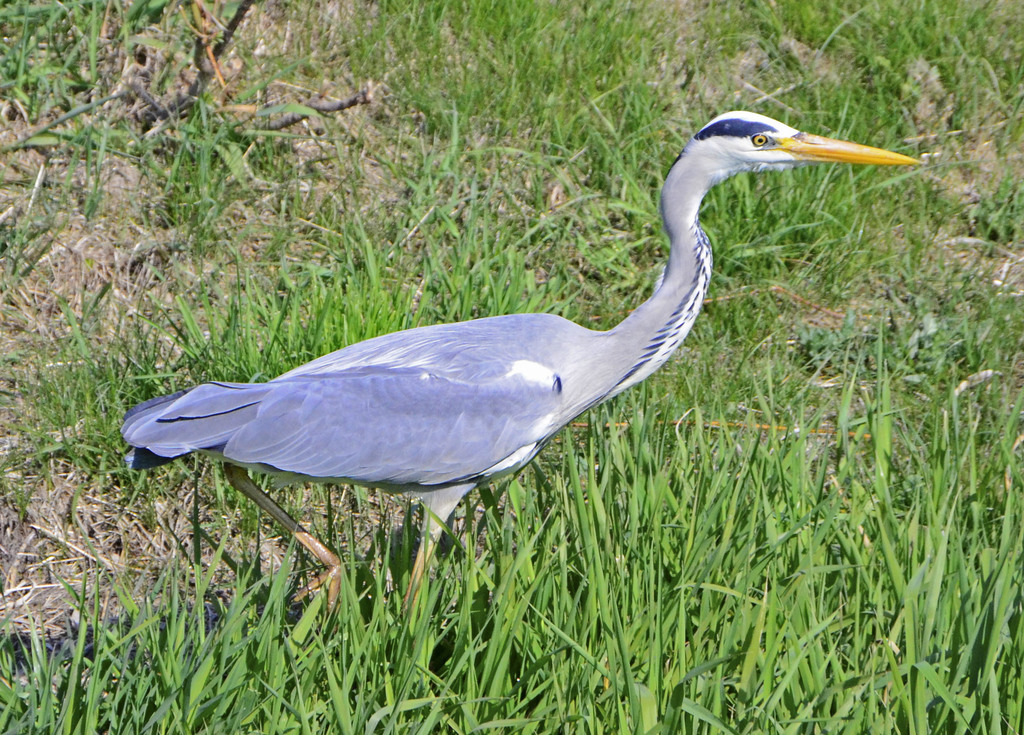Bird: (121, 94, 928, 625)
